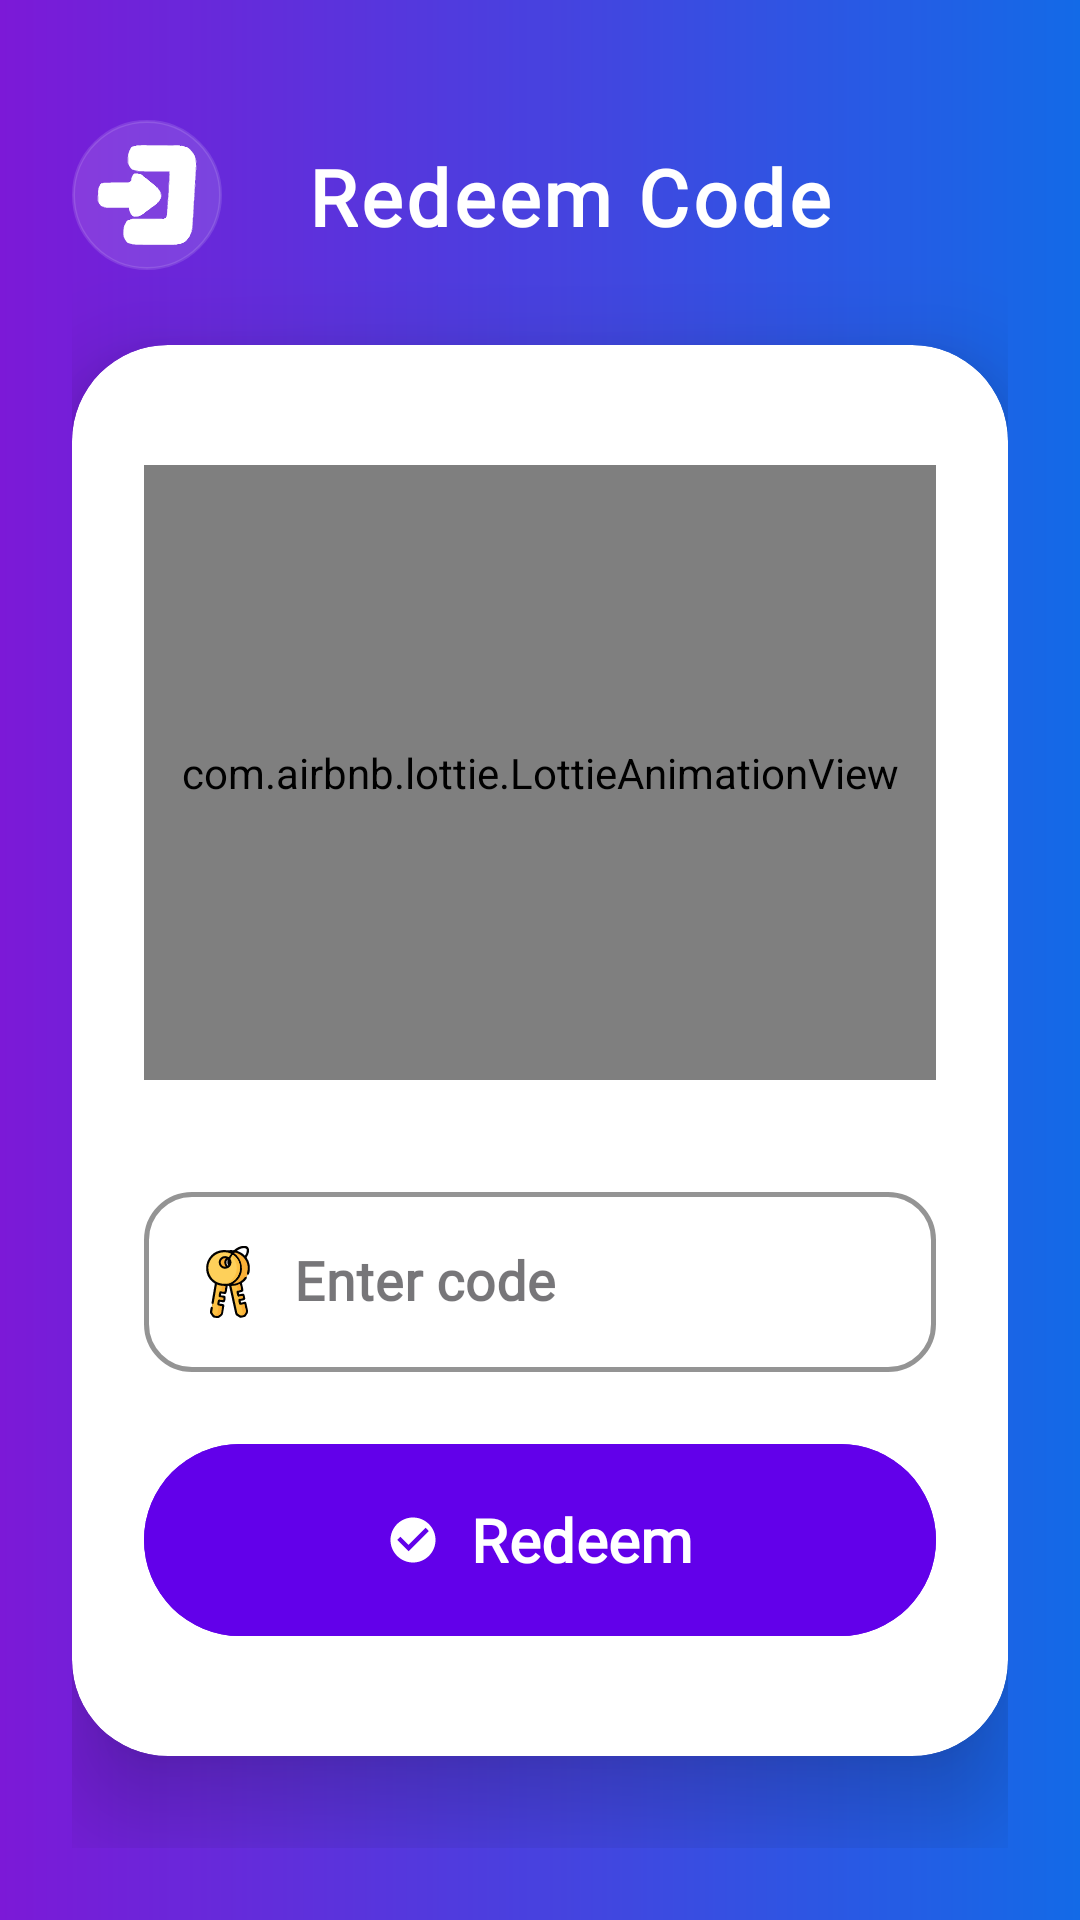

Point at icon controls on the screen. Image size 1080*1920, points as point (x, y).
Sign Out: point (147, 195)
